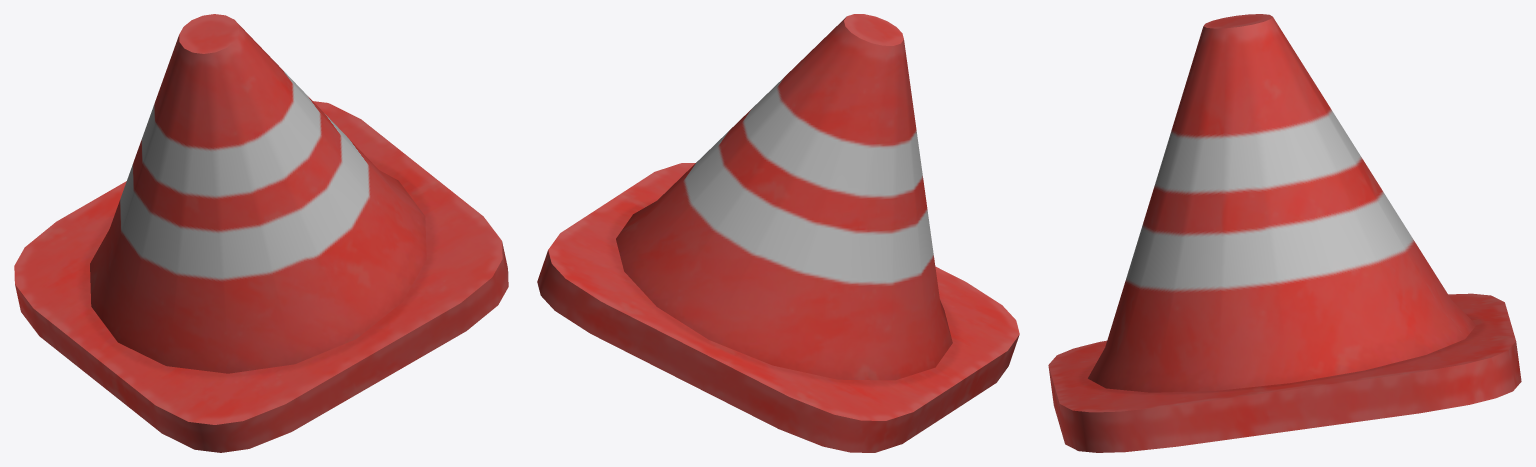
The model's file is IG_Helmat_Cone.fbx.
The picture shows the model from 3 angles, left to right: view 1: azimuth 30°, elevation 25°; view 2: azimuth 150°, elevation 25°; view 3: azimuth 270°, elevation 25°; orthographic projection. The views are drawn at different scales.
Parts seen in each view (by area): view 1: Pfb_Helmet_Cone; view 2: Pfb_Helmet_Cone; view 3: Pfb_Helmet_Cone.
Part boxes in pixels (x1,y1,x2,y2): Pfb_Helmet_Cone: (14,14,508,452); Pfb_Helmet_Cone: (537,14,1019,452); Pfb_Helmet_Cone: (1048,14,1521,452).
Bounding box in the file's own units: 0.6586 × 0.6338 × 0.6611.
